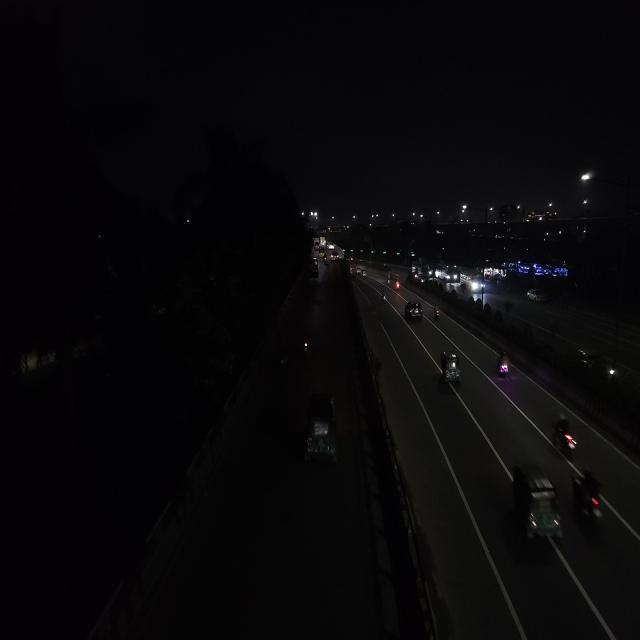bus: (463, 268, 483, 293), (441, 266, 460, 285)
car: (570, 345, 620, 387), (525, 286, 547, 305), (404, 298, 422, 320), (356, 266, 366, 278), (329, 248, 338, 260), (352, 266, 358, 277)
cng: (508, 458, 564, 551), (302, 388, 339, 472), (440, 347, 460, 383)
motorcycle: (571, 467, 607, 532), (550, 410, 580, 458), (495, 350, 513, 380), (300, 330, 312, 359), (432, 301, 441, 321), (379, 289, 388, 303), (393, 279, 401, 290), (323, 254, 328, 264)
